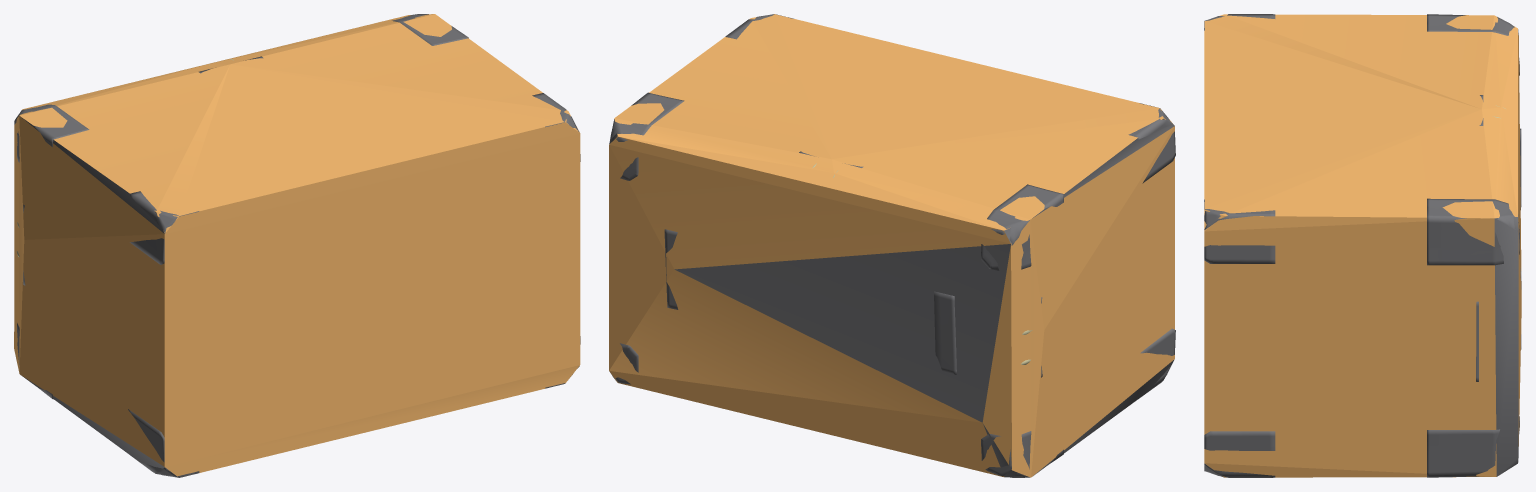
The model's file is big_crate.fbx.
The picture shows the model from 3 angles, left to right: view 1: azimuth 30°, elevation 25°; view 2: azimuth 150°, elevation 25°; view 3: azimuth 270°, elevation 25°; orthographic projection.
Parts seen in each view (by area): view 1: c_big_crate, big_crate; view 2: c_big_crate, big_crate; view 3: c_big_crate, big_crate.
Boxes of the visible parts, box(x1,y1,x2,y2) form: c_big_crate: box(14, 14, 580, 477); big_crate: box(14, 14, 580, 477); c_big_crate: box(609, 14, 1174, 477); big_crate: box(610, 14, 1175, 477); c_big_crate: box(1204, 14, 1521, 477); big_crate: box(1204, 14, 1521, 477).
Size of the model in its own units: 175 by 106 by 114.
